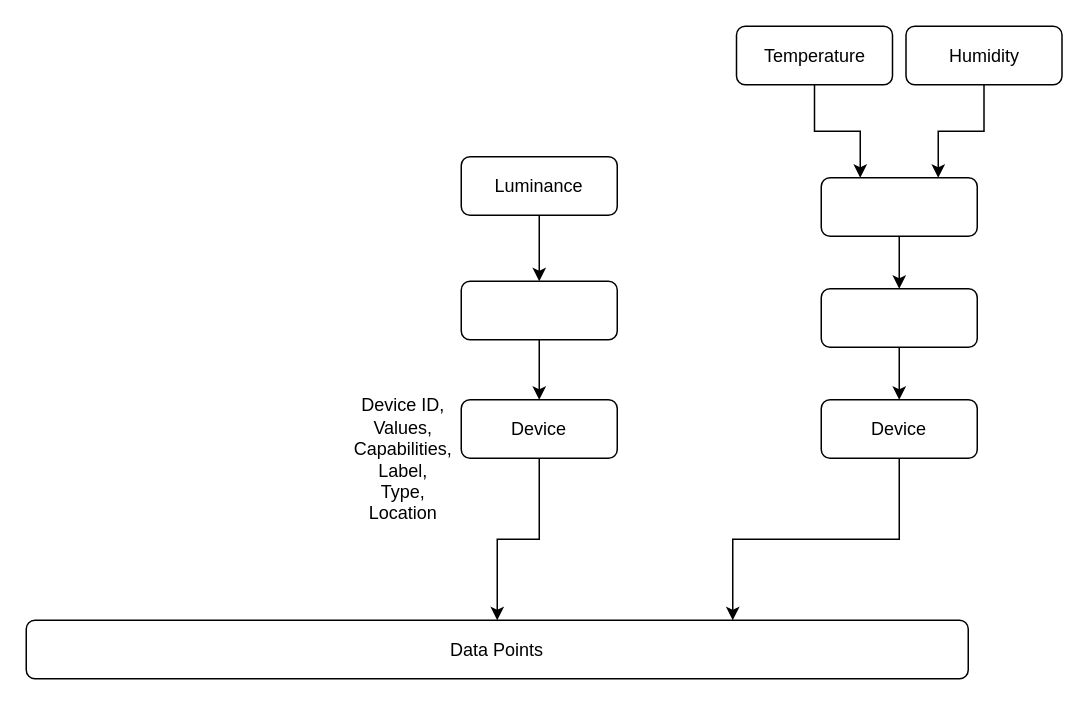
Image size: 1089x705. Some labels were removed from this diagram. The centre of each missing label's shape, as x and y in pixels:
"AHT20" goes at (x=898, y=206).
"ahtx0.py" goes at (x=898, y=317).
"Driver" goes at (x=538, y=310).
